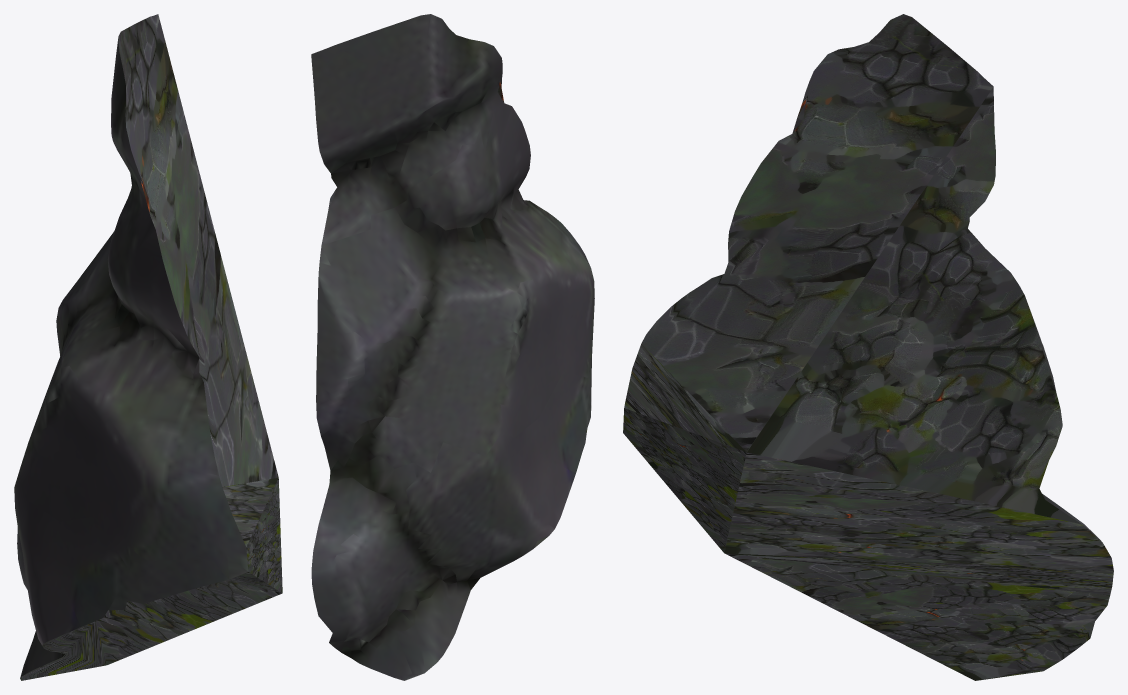
The model's file is Frag_06.gltf.
3 renders of one model, left to right at view 1: azimuth 30°, elevation 25°; view 2: azimuth 150°, elevation 25°; view 3: azimuth 270°, elevation 25°, orthographic. The views are drawn at different scales.
Visible parts, largest first — view 1: Frag_06; view 2: Frag_06; view 3: Frag_06.
Boxes of the visible parts, x1=… form: Frag_06: x1=14, y1=14, x2=282, y2=680; Frag_06: x1=311, y1=14, x2=594, y2=680; Frag_06: x1=623, y1=14, x2=1113, y2=680.
Size of the model in its own units: 0.106 by 0.3607 by 0.2388.
1 material, 1 textured.
